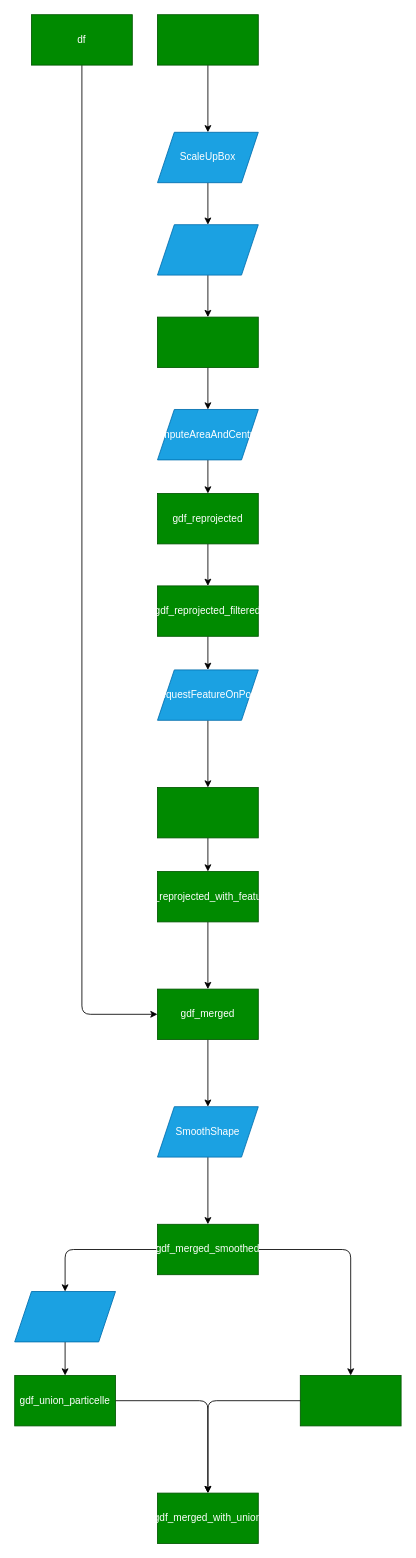
The diagram is 416 pixels wide and 1558 high, and some of its shapes have lost their labels. The shapes that lost their labels are listed below. From the top down, each one's centre as x and y in pixels, then its label:
At [207,39]: "Bbox".
At [207,249]: "ExtractShapeFromRaster".
At [207,342]: "df_extracted_shape_in_bbox".
At [207,812]: "df_extracted_features_from_centroid".
At [65,1316]: "dissolve(union)".
At [350,1400]: "gdf_fabbricati".
